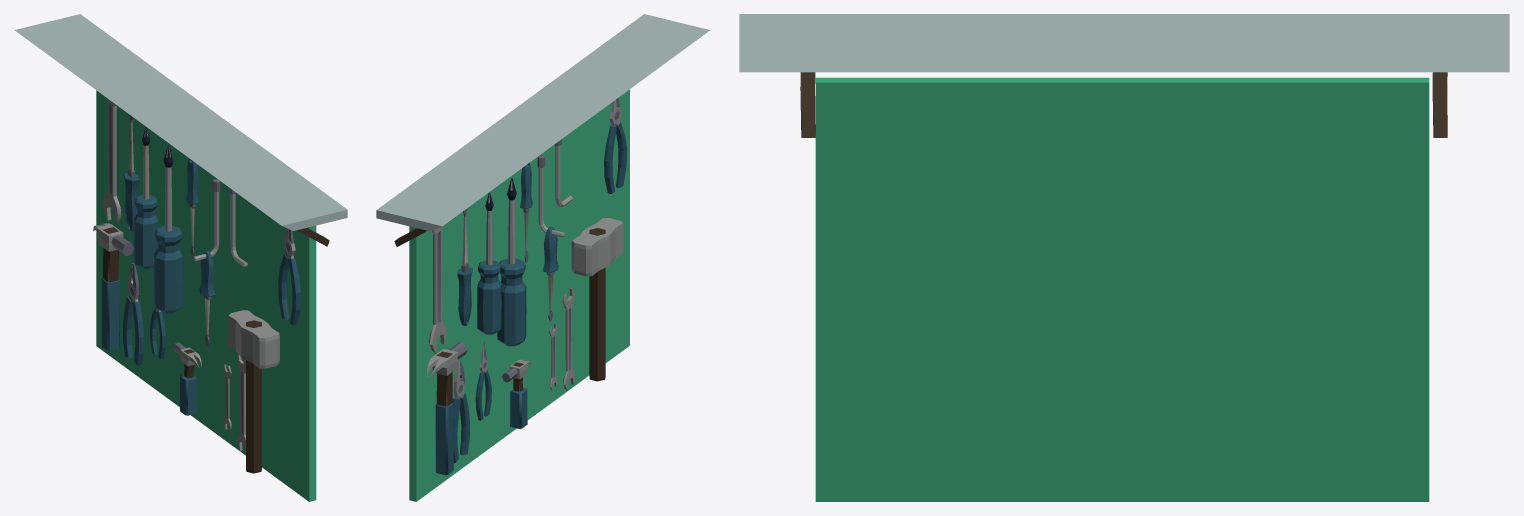
File: QuadroDeFerramentas.fbx
The picture shows the model from 3 angles, left to right: view 1: azimuth 30°, elevation 25°; view 2: azimuth 150°, elevation 25°; view 3: azimuth 270°, elevation 25°; orthographic projection. The views are drawn at different scales.
Parts seen in each view (by area): view 1: QuadrodeFerramenta, PrateleiraA.001, Marreta, ChaveC.001, Martelo, ChaveC, AlicateA, AlicateB, ChaveA.001, Martelo.001, ChaveC1.001, ChaveC1.002 (+6 smaller); view 2: QuadrodeFerramenta, PrateleiraA.001, Marreta, ChaveC.001, Martelo, ChaveC, AlicateB, ChaveA.001, AlicateA, Martelo.001, ChaveC1.001, ChaveC1.002 (+5 smaller); view 3: QuadrodeFerramenta, PrateleiraA.001.
Part boxes in pixels (x1=…): QuadrodeFerramenta: x1=96, y1=90, x2=316, y2=501; PrateleiraA.001: x1=14, y1=14, x2=347, y2=246; Marreta: x1=228, y1=310, x2=279, y2=473; ChaveC.001: x1=154, y1=145, x2=182, y2=313; Martelo: x1=93, y1=223, x2=133, y2=350; ChaveC: x1=134, y1=127, x2=158, y2=268; AlicateA: x1=123, y1=263, x2=144, y2=365; AlicateB: x1=278, y1=228, x2=300, y2=325; ChaveA.001: x1=103, y1=97, x2=121, y2=223; Martelo.001: x1=173, y1=342, x2=201, y2=415; ChaveC1.001: x1=123, y1=114, x2=139, y2=231; ChaveC1.002: x1=199, y1=251, x2=215, y2=345; QuadrodeFerramenta: x1=409, y1=89, x2=629, y2=501; PrateleiraA.001: x1=376, y1=14, x2=710, y2=246; Marreta: x1=571, y1=218, x2=623, y2=381; ChaveC.001: x1=497, y1=178, x2=526, y2=346; Martelo: x1=427, y1=341, x2=467, y2=475; ChaveC: x1=477, y1=192, x2=501, y2=334; AlicateB: x1=604, y1=98, x2=626, y2=193; ChaveA.001: x1=429, y1=225, x2=446, y2=353; AlicateA: x1=452, y1=360, x2=469, y2=463; Martelo.001: x1=502, y1=359, x2=530, y2=428; ChaveC1.001: x1=457, y1=208, x2=472, y2=325; ChaveC1.002: x1=542, y1=227, x2=558, y2=321; QuadrodeFerramenta: x1=815, y1=77, x2=1429, y2=501; PrateleiraA.001: x1=739, y1=14, x2=1509, y2=137.
Bounding box in the file's own units: 28.74 × 121 × 191.
